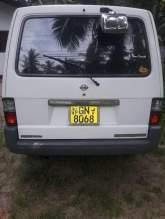license-plate: (70, 104, 98, 124)
